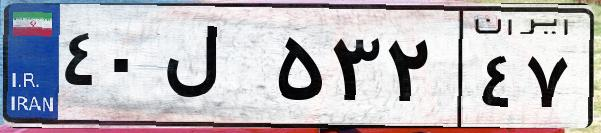0: (110, 28, 158, 98)
2: (385, 28, 445, 110)
3: (330, 28, 385, 110)
4: (57, 26, 110, 100), (475, 38, 525, 113)
5: (270, 28, 330, 110)
7: (525, 38, 570, 115)
ل: (158, 20, 270, 120)
